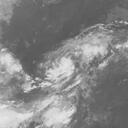cyclone: (37, 32, 108, 105)
